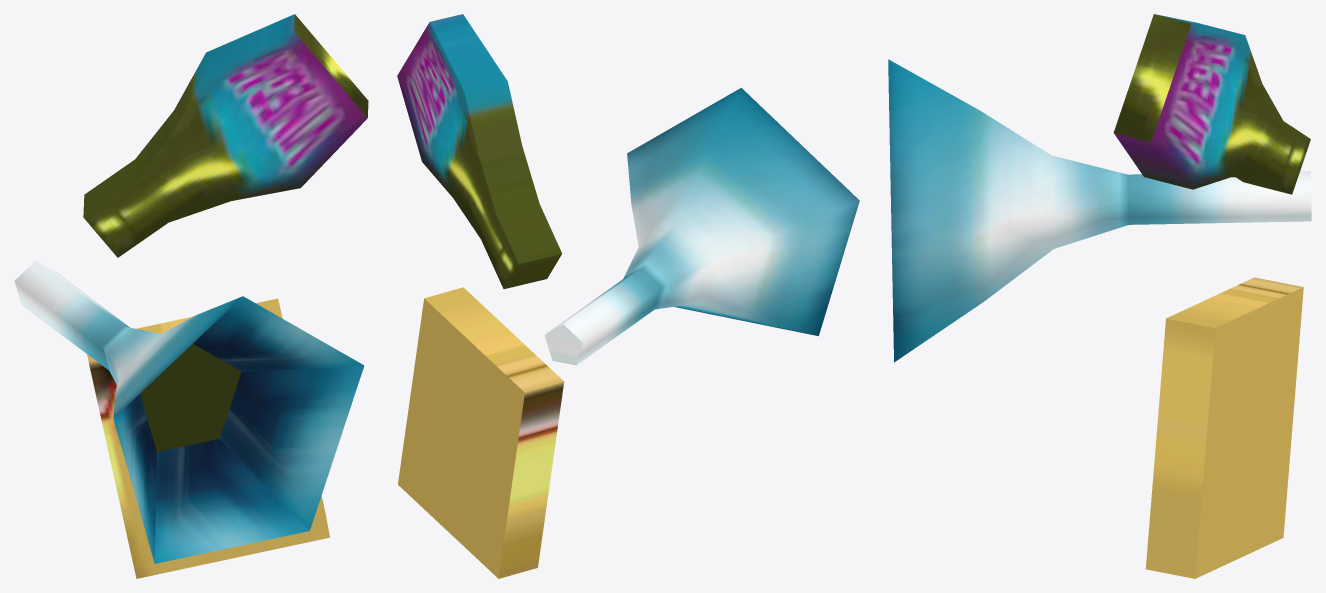
The model's file is speedbase.glb.
The picture shows the model from 3 angles, left to right: view 1: azimuth 30°, elevation 25°; view 2: azimuth 150°, elevation 25°; view 3: azimuth 270°, elevation 25°; orthographic projection. The views are drawn at different scales.
Parts seen in each view (by area): view 1: speedbase_m0578f660; view 2: speedbase_m0578f660; view 3: speedbase_m0578f660.
Boxes of the visible parts, x1,y1,x2,y2 form: speedbase_m0578f660: (14, 14, 368, 578); speedbase_m0578f660: (397, 14, 859, 578); speedbase_m0578f660: (888, 14, 1311, 578).
Bounding box in the file's own units: 39.18 × 53.88 × 35.93.
1 material, 1 textured.
